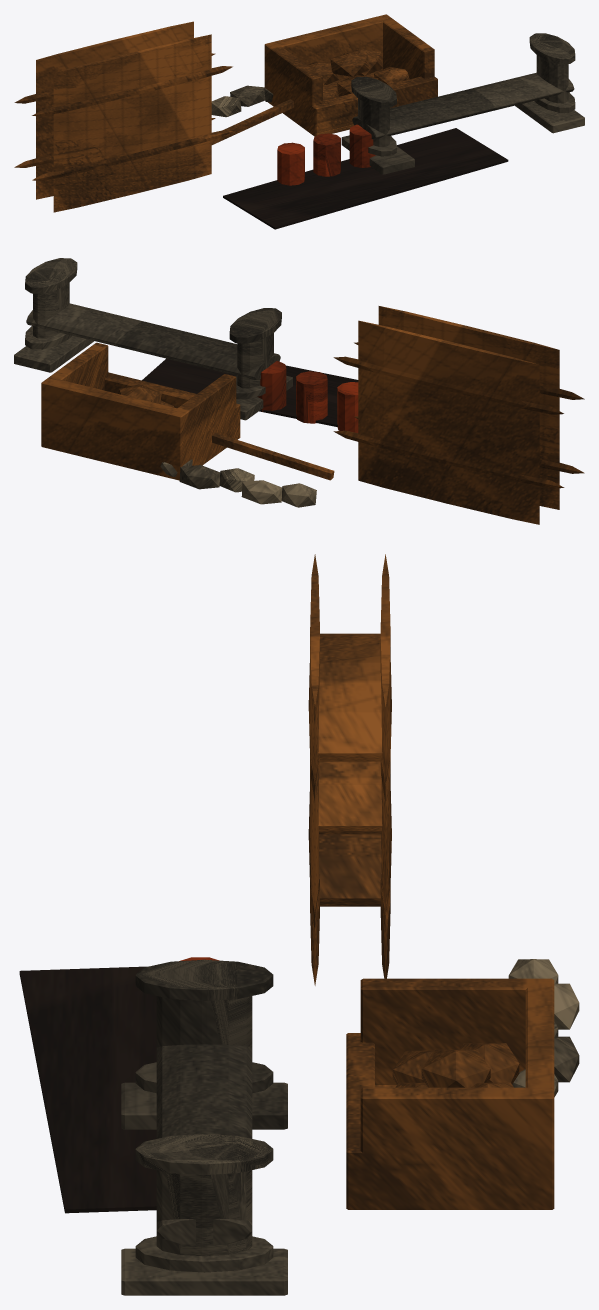
Rendered from north-approach-kit.glb.
3 renders of one model, top to bottom at view 1: azimuth 30°, elevation 25°; view 2: azimuth 150°, elevation 25°; view 3: azimuth 270°, elevation 25°, orthographic. The views are drawn at different scales.
Parts seen in each view (by area): view 1: north-approach-kit; view 2: north-approach-kit; view 3: north-approach-kit.
Boxes of the visible parts, x1=… form: north-approach-kit: x1=14, y1=14, x2=584, y2=229; north-approach-kit: x1=14, y1=258, x2=584, y2=524; north-approach-kit: x1=19, y1=554, x2=579, y2=1295.
Bounding box in the file's own units: 14.1 × 3.7 × 6.72.
Materials: 1 (1 with a texture image).
